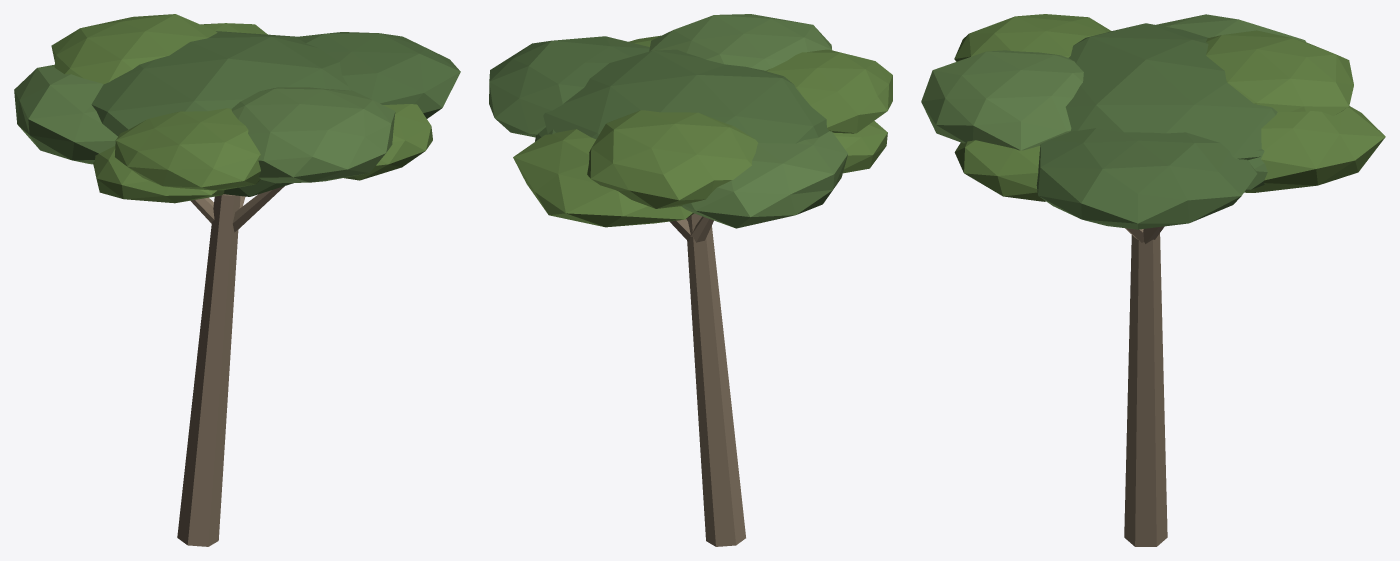
Rendered from fistik-cami.glb.
3 renders of one model, left to right at view 1: azimuth 30°, elevation 25°; view 2: azimuth 150°, elevation 25°; view 3: azimuth 270°, elevation 25°, orthographic. The views are drawn at different scales.
Visible parts, largest first — view 1: cam1, yaprak2, cam2, kabuk; view 2: yaprak2, cam1, cam2, kabuk; view 3: cam1, yaprak2, cam2, kabuk.
Part boxes in pixels (left/top/right/bottom): cam1: left=91, top=31, right=460, bottom=196; yaprak2: left=51, top=14, right=432, bottom=203; cam2: left=14, top=64, right=395, bottom=183; kabuk: left=177, top=186, right=284, bottom=546; yaprak2: left=513, top=35, right=892, bottom=227; cam1: left=489, top=36, right=829, bottom=143; cam2: left=649, top=14, right=847, bottom=228; kabuk: left=670, top=213, right=745, bottom=546; cam1: left=1036, top=23, right=1277, bottom=229; yaprak2: left=954, top=14, right=1385, bottom=201; cam2: left=921, top=14, right=1305, bottom=150; kabuk: left=1124, top=226, right=1167, bottom=546.
Bounding box in the file's own units: 7.76 × 9.06 × 7.71.
